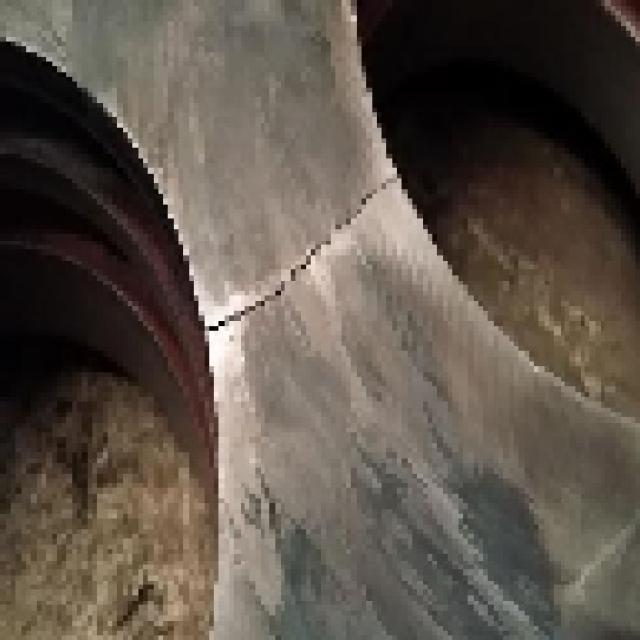crack: (332, 177, 395, 238), (209, 292, 280, 332), (284, 238, 330, 284)
